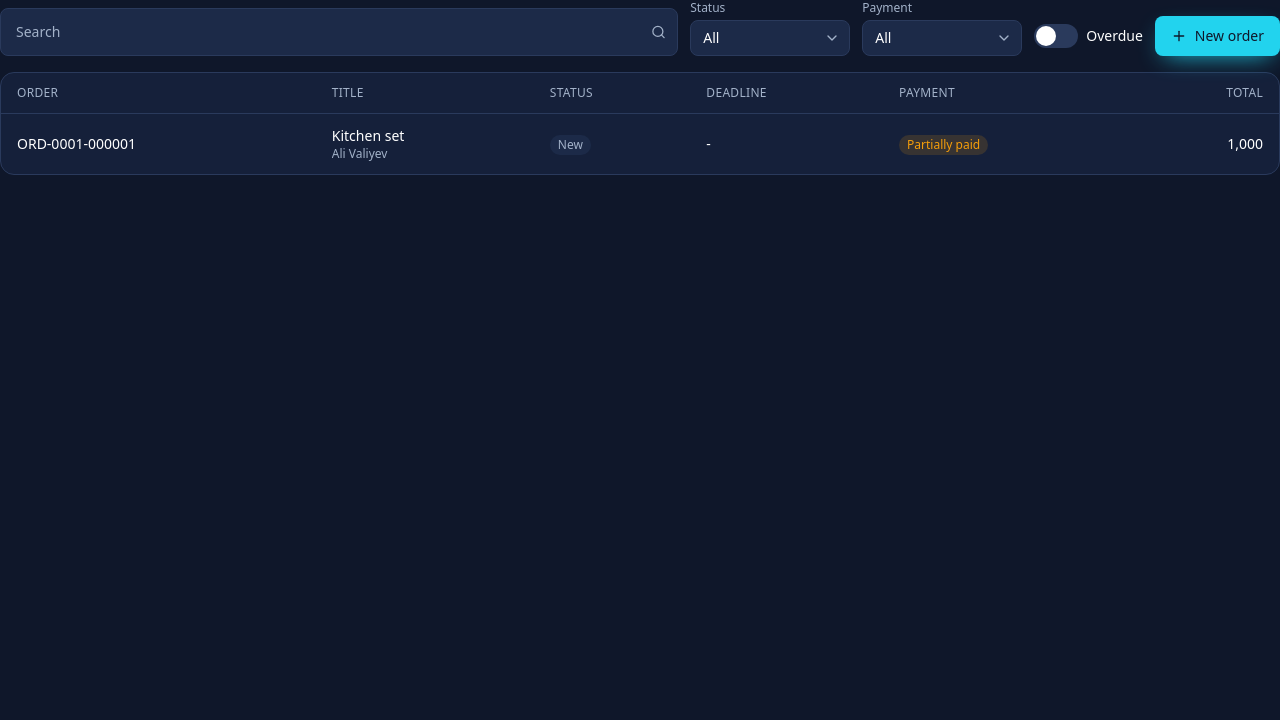
it: OrdersTab › clicking a row opens the order
Click the text "Kitchen set" at (368, 136), box [332,126,404,145]
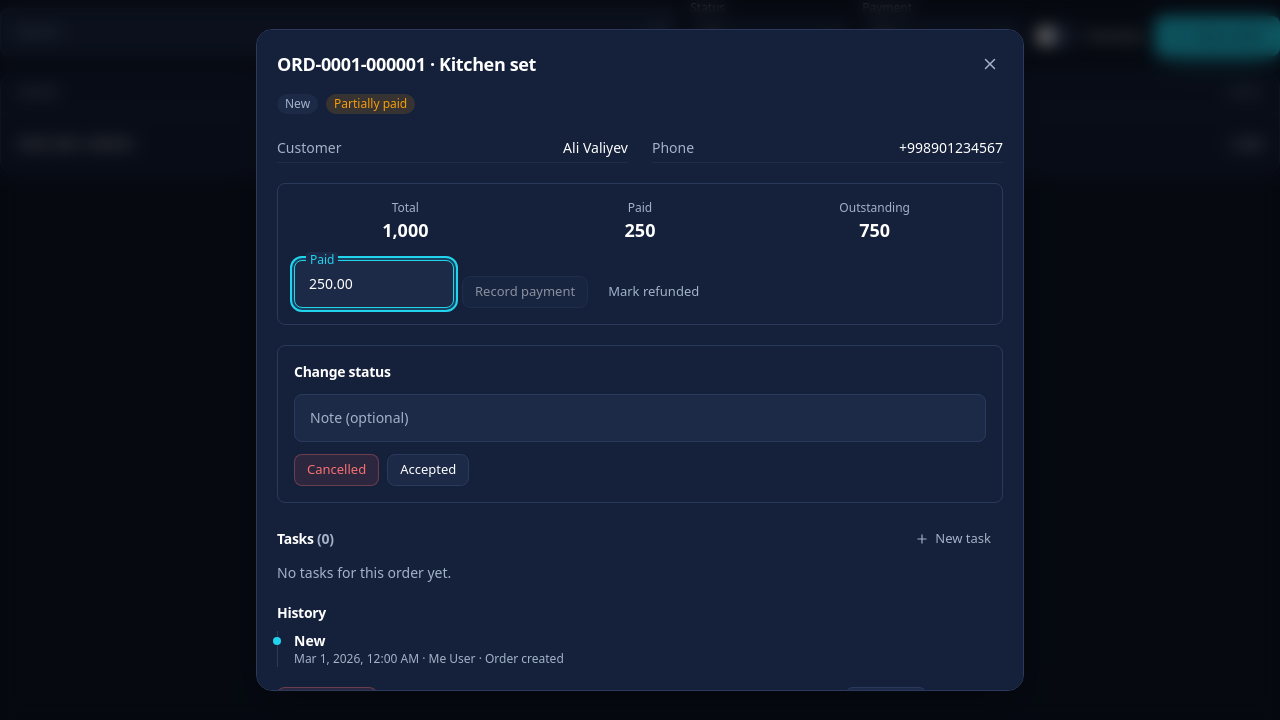
Expected: the dialog "ORD-0001-000001" is shown, [256,29,1024,691]
